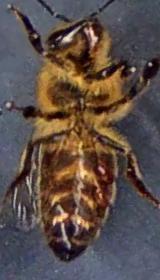varroa_mite: (81, 144, 124, 190)
